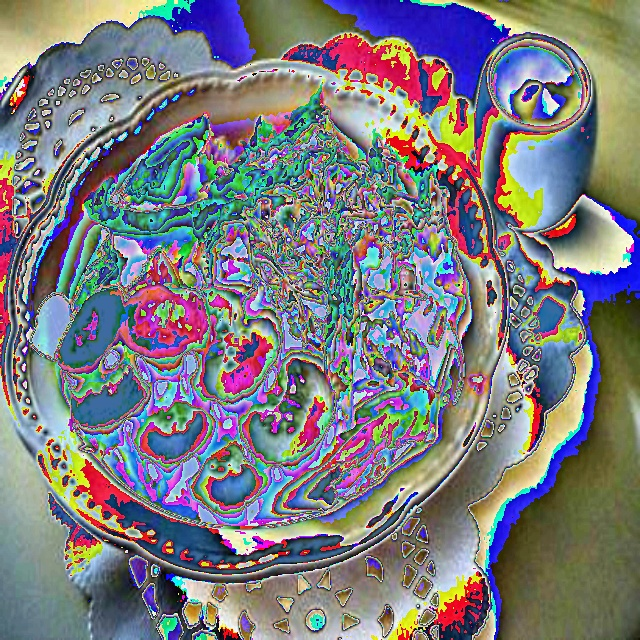background: (55, 85, 466, 527), (94, 45, 585, 126)
